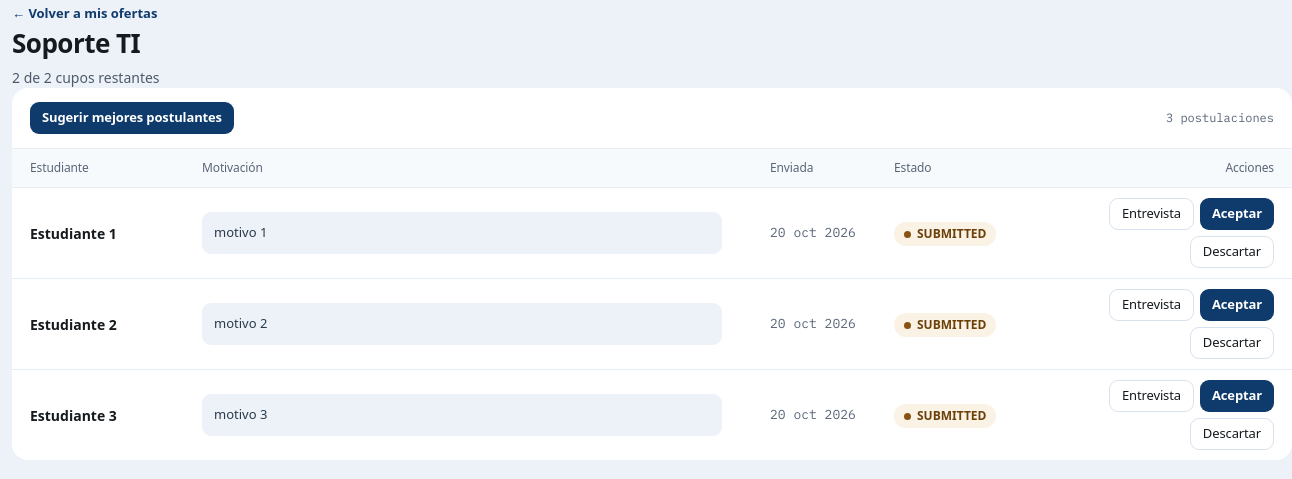
Test: OfferApplicationsPage · sugerir mejores postulantes (IA-02) › ordena por afinidad con insignia y motivo, y avisa que la decisión es de la empresa
Click the button "Sugerir mejores postulantes". click: (132, 118)
box: [30,102,234,134]
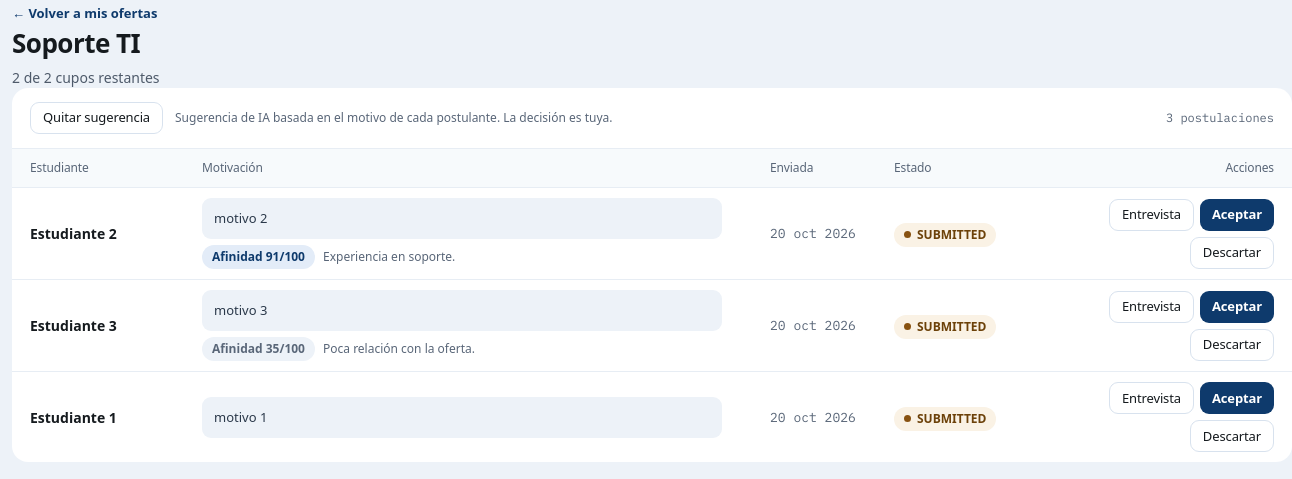
Now the text "Afinidad 91/100" is shown, box [212,248,305,266]
Now the text "Experiencia en soporte." is shown, box [323,248,455,266]
Now the text "La decisión es tuya" is shown, box [175,109,612,126]
